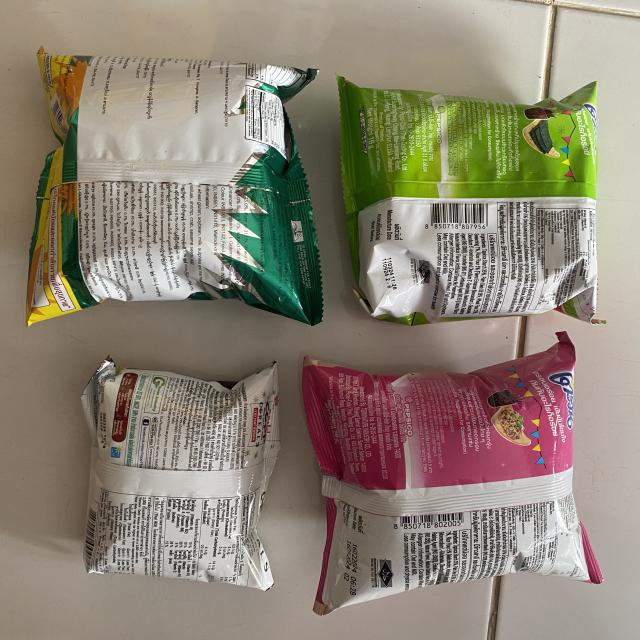plastik: (302, 332, 602, 615), (26, 48, 322, 325), (338, 76, 598, 325), (81, 358, 280, 590)
